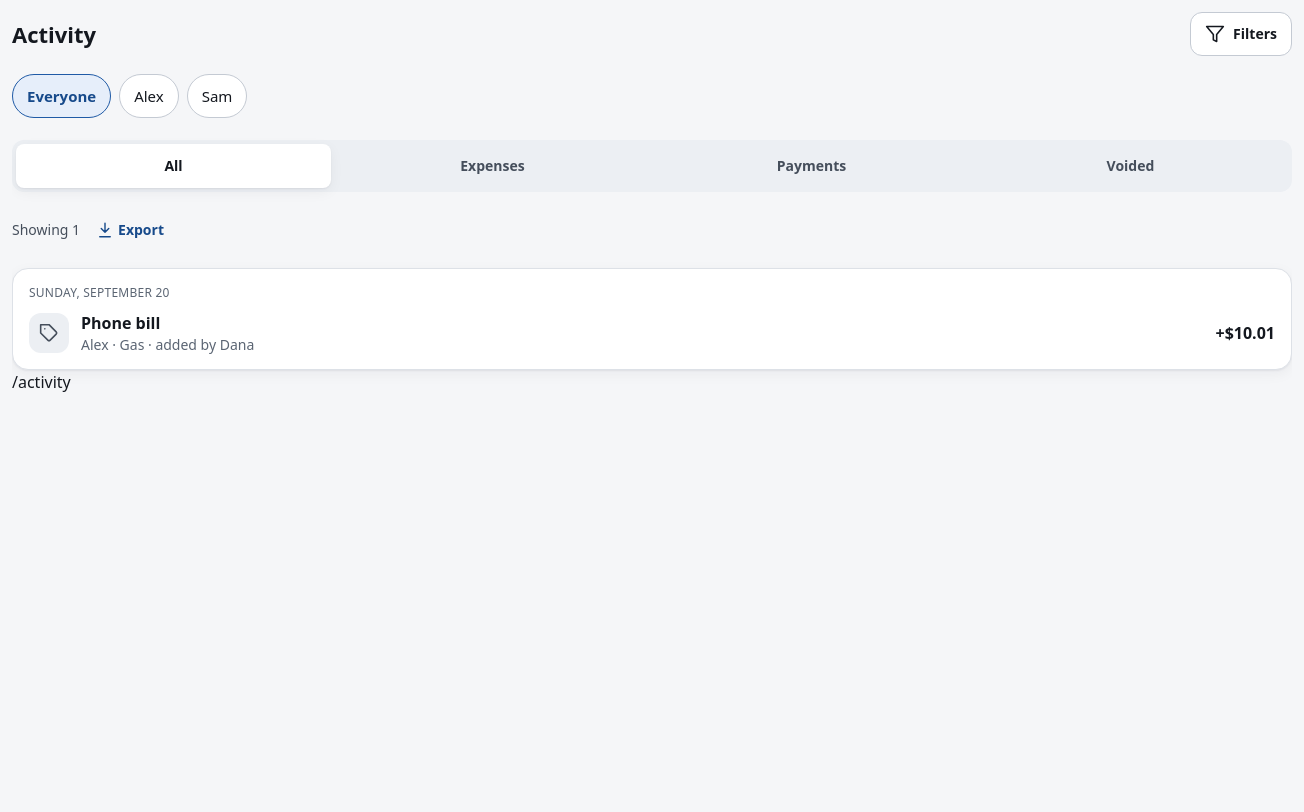
Test case: ActivityPage as a Parent › voids with a reason, then reloads the list
Click the button "Phone bill Alex · Gas · added by Dana +$10.01" at (49, 333), box left=29, top=301, right=1275, bottom=365
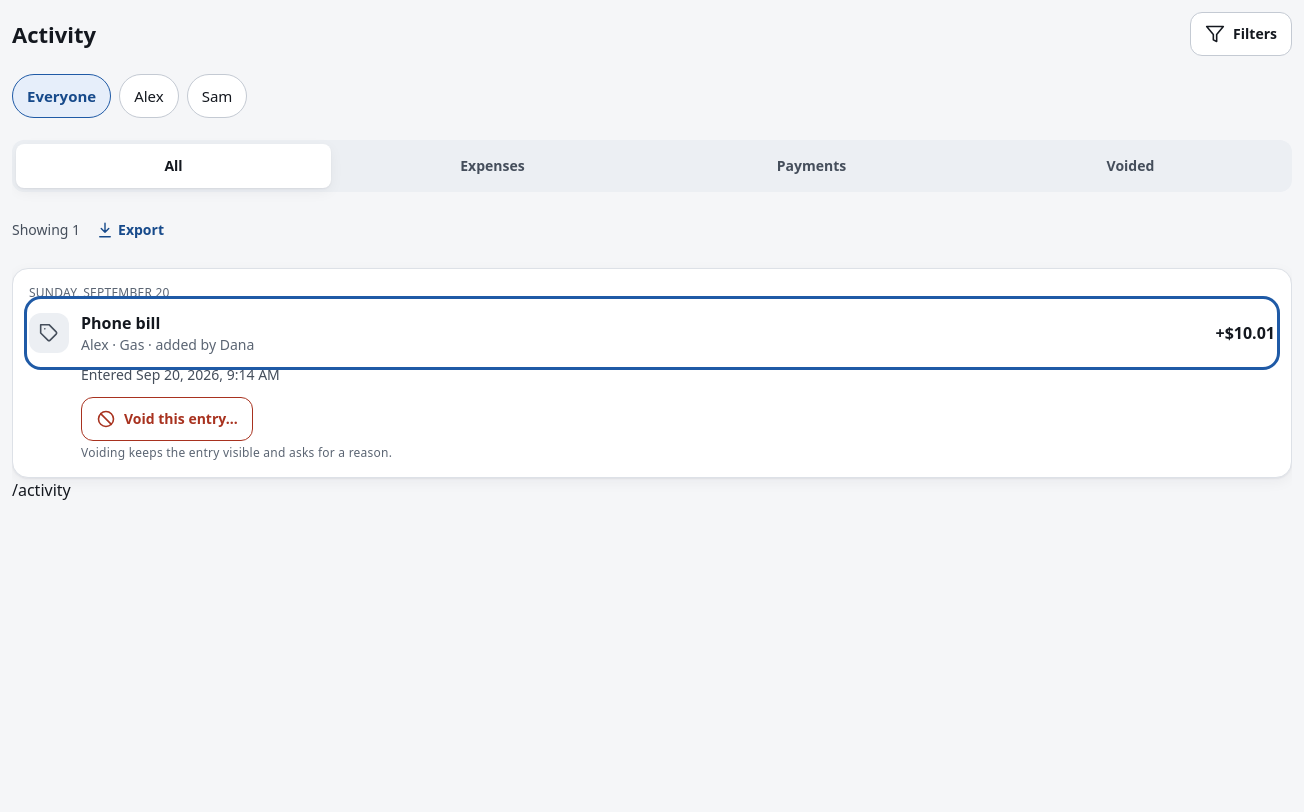
Click the button "Void this entry…" at (167, 419), box left=81, top=397, right=253, bottom=441
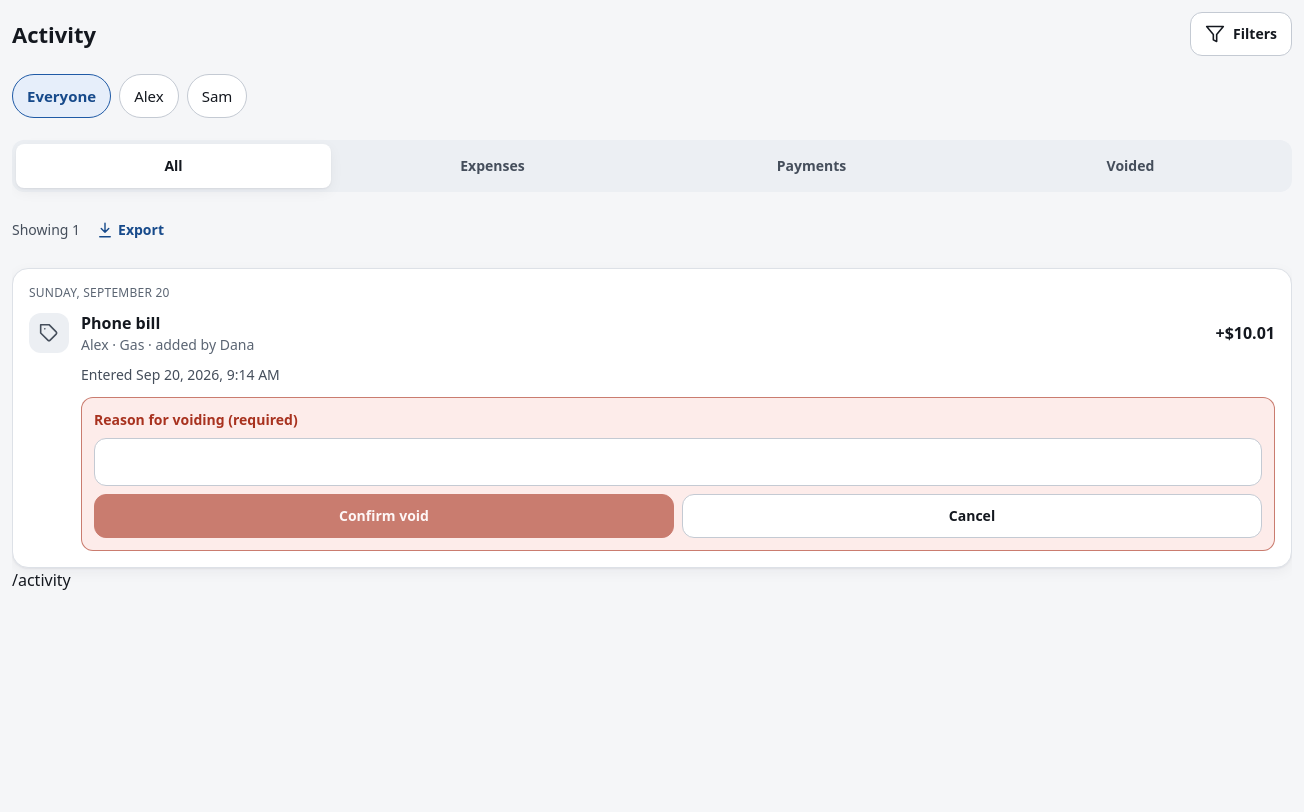
expect the button "Confirm void" is disabled: met, box left=94, top=494, right=674, bottom=538
Type "Duplicate" into the field labelled "Reason for voiding (required)" at (678, 462), box left=94, top=438, right=1262, bottom=486
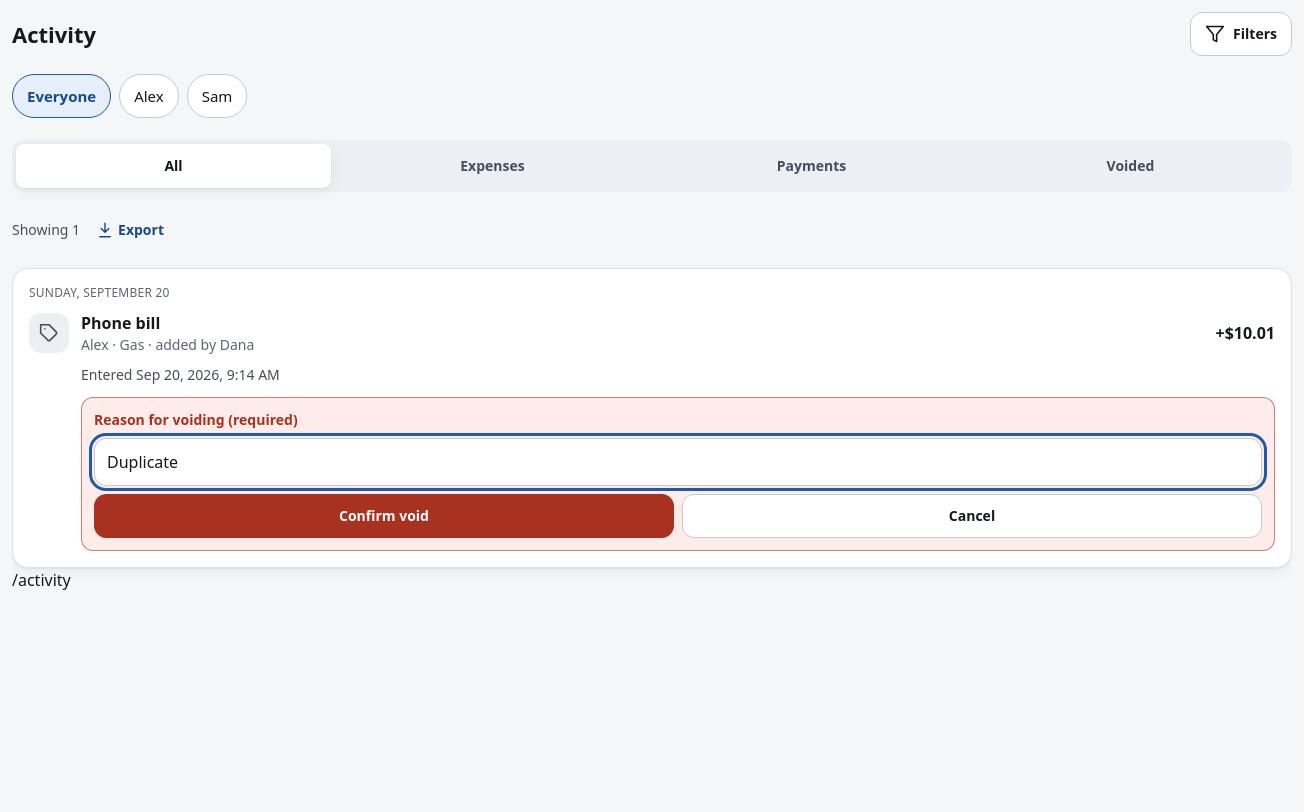
Click the button "Confirm void" at (384, 516), box left=94, top=494, right=674, bottom=538
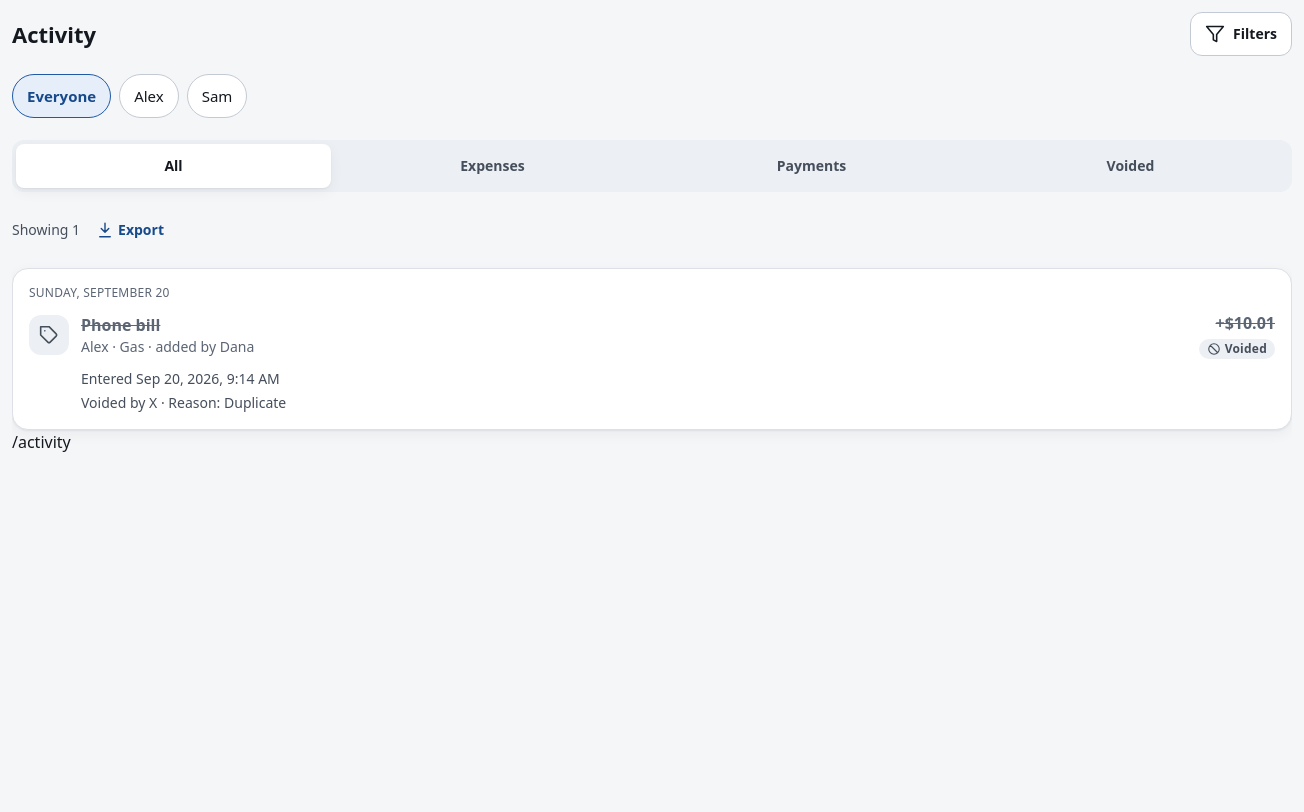
expect the text "Voided" is shown: met, box left=1199, top=339, right=1275, bottom=359
